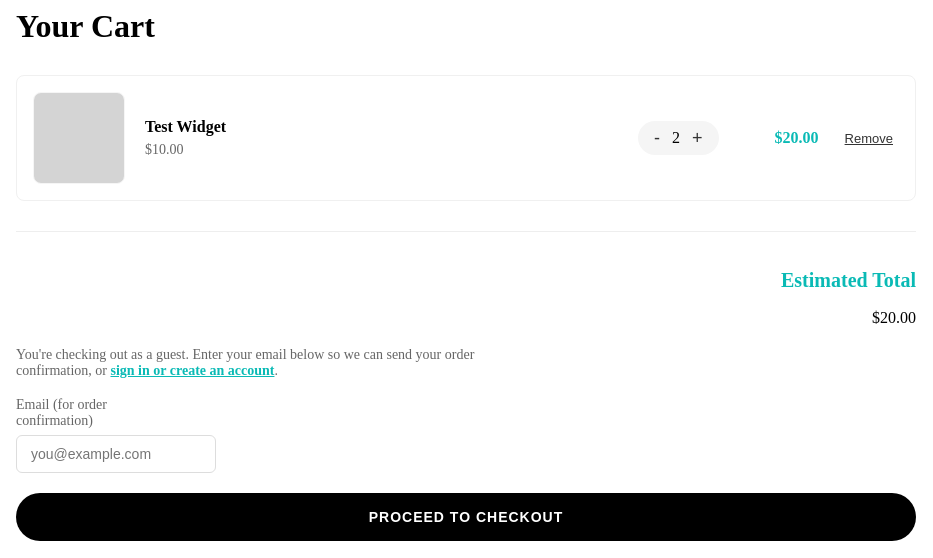
CartPage › clicking + increases the quantity and updates the subtotal
Click the button "+" at (697, 138), box [692,129,703,147]
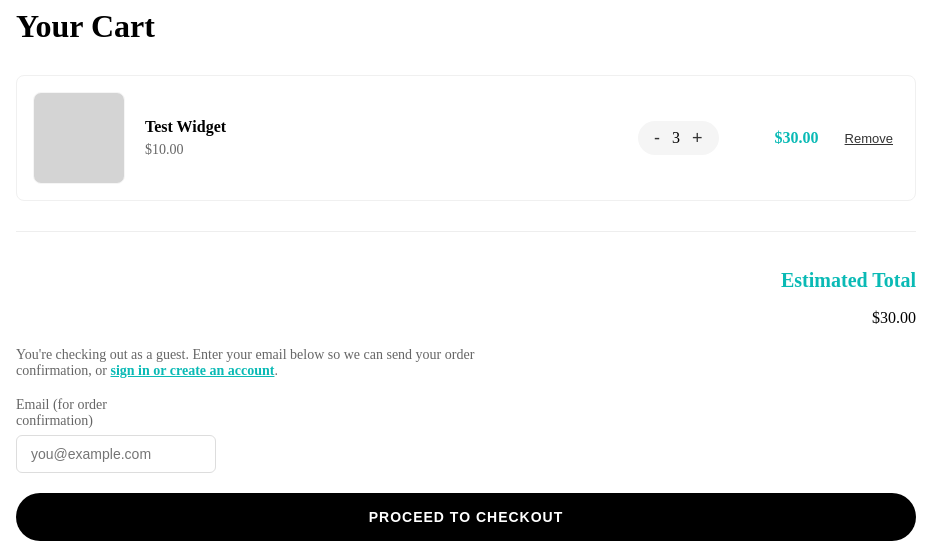
Expected: the text "3" is shown, [672,129,680,147]
Expected: the text "$30.00" in the row of "Test Widget" is shown, [775,129,819,146]
